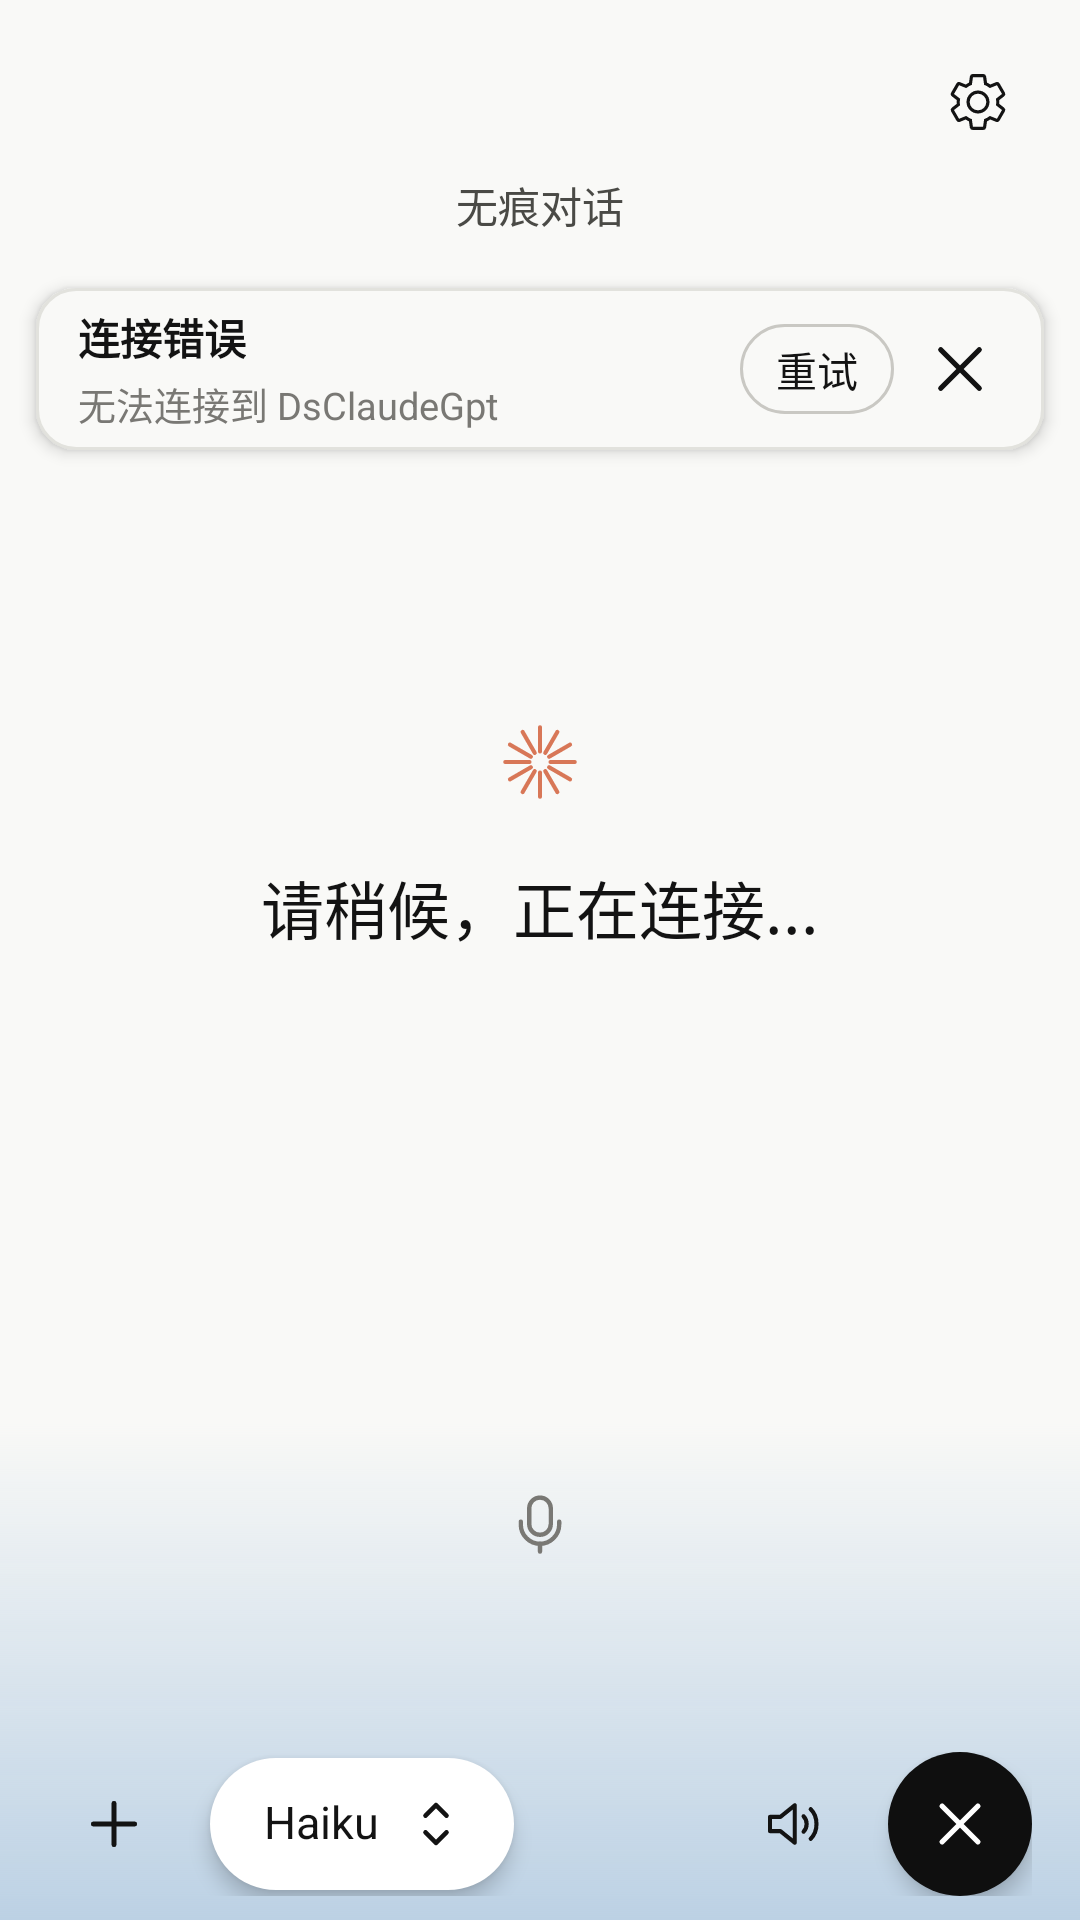

Where to tap for icons on this 1080w x 1920h app screen, as point (x, y):
close: point (960, 369), point (960, 1824)
starburst: point (540, 762)
添加内容: point (114, 1824)
设置: point (978, 102)
